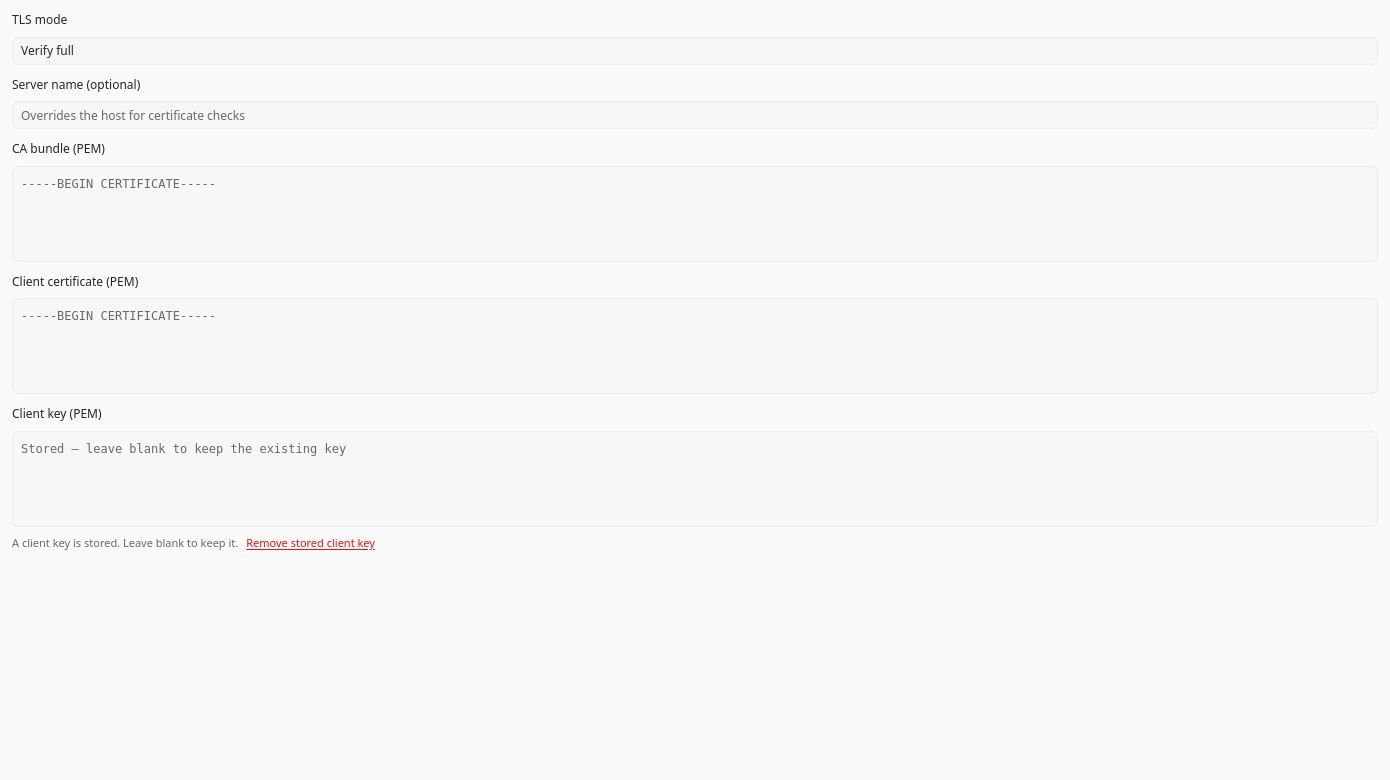
Test: ConnectionTlsFields › removes a stored client key on request and lets it be restored
Click the button "Remove stored client key": click(311, 543) x1=246 y1=534 x2=375 y2=551
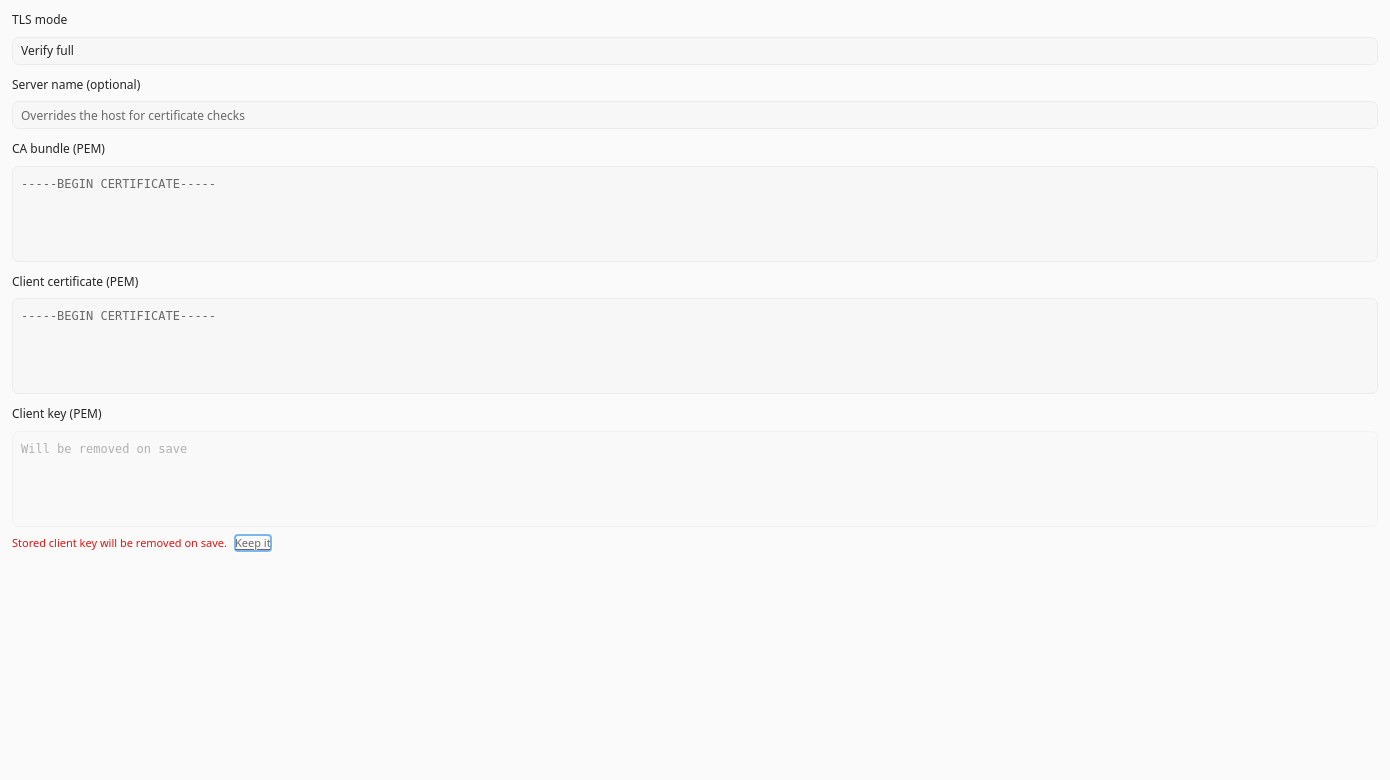
Expected: the text box named "client key" is disabled, x1=12 y1=430 x2=1378 y2=526
Expected: the text "Stored client key will be removed on save." is shown, x1=12 y1=534 x2=227 y2=551
Click the button "Keep it": click(253, 543) x1=235 y1=534 x2=271 y2=551
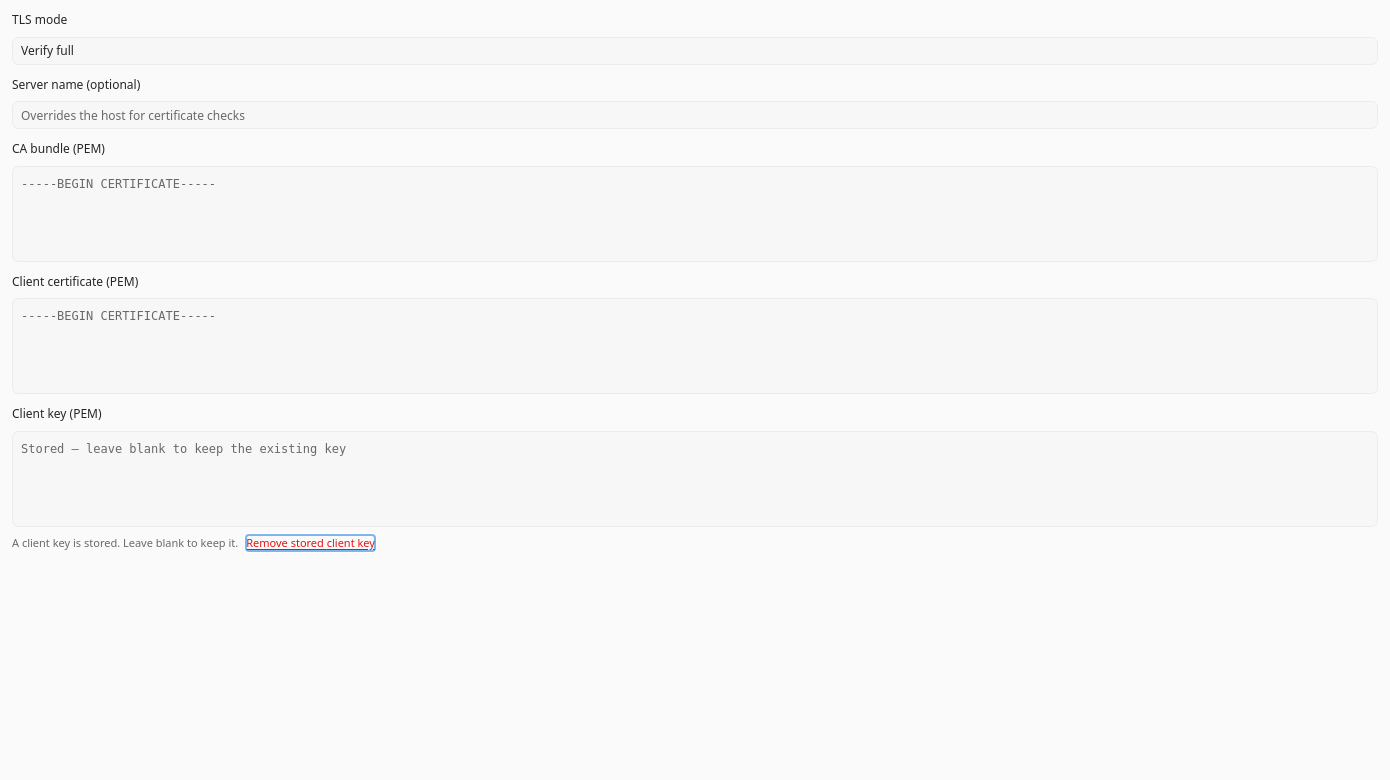
Expected: the text box named "client key" is enabled, x1=12 y1=430 x2=1378 y2=526
